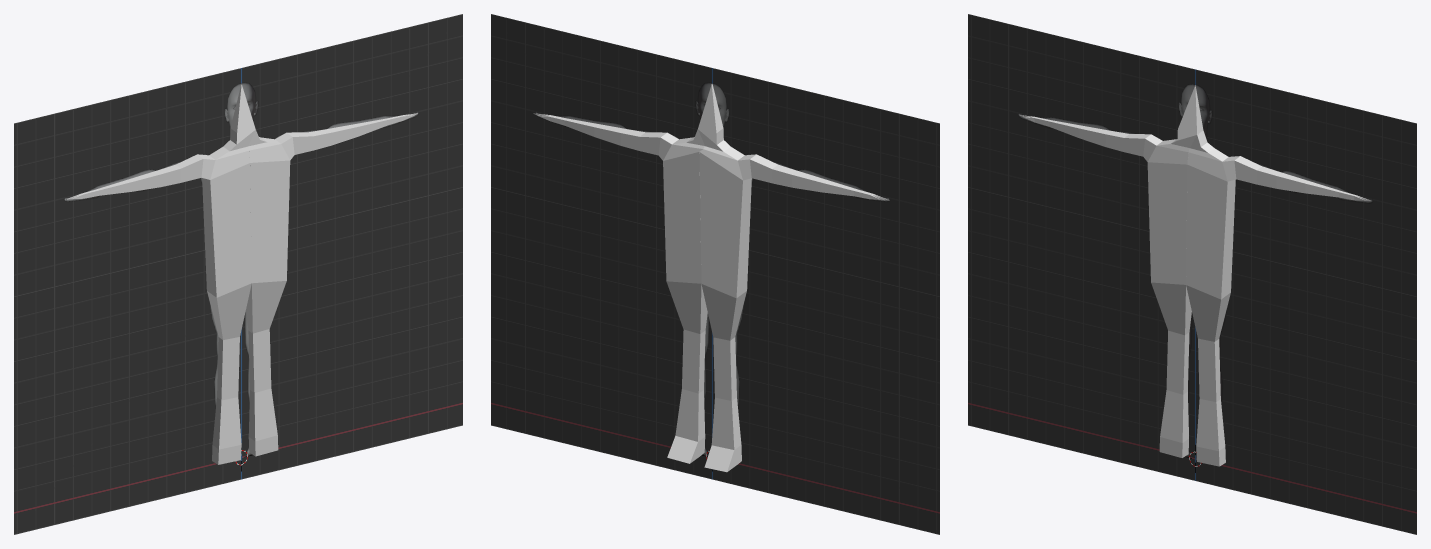
File: body.glb
3 renders of one model, left to right at view 1: azimuth 30°, elevation 25°; view 2: azimuth 150°, elevation 25°; view 3: azimuth 330°, elevation 25°, orthographic.
Parts seen in each view (by area): view 1: human, Cube.001; view 2: human, Cube.001; view 3: human, Cube.001.
Part boxes in pixels (x1,y1,x2,y2): human: (14,14,462,534); Cube.001: (66,84,417,464); human: (491,14,939,534); Cube.001: (533,84,889,472); human: (968,14,1416,534); Cube.001: (1020,85,1370,466).
Size of the model in its own units: 1.14 by 1 by 0.1091.
Materials: 1 (1 with a texture image).
